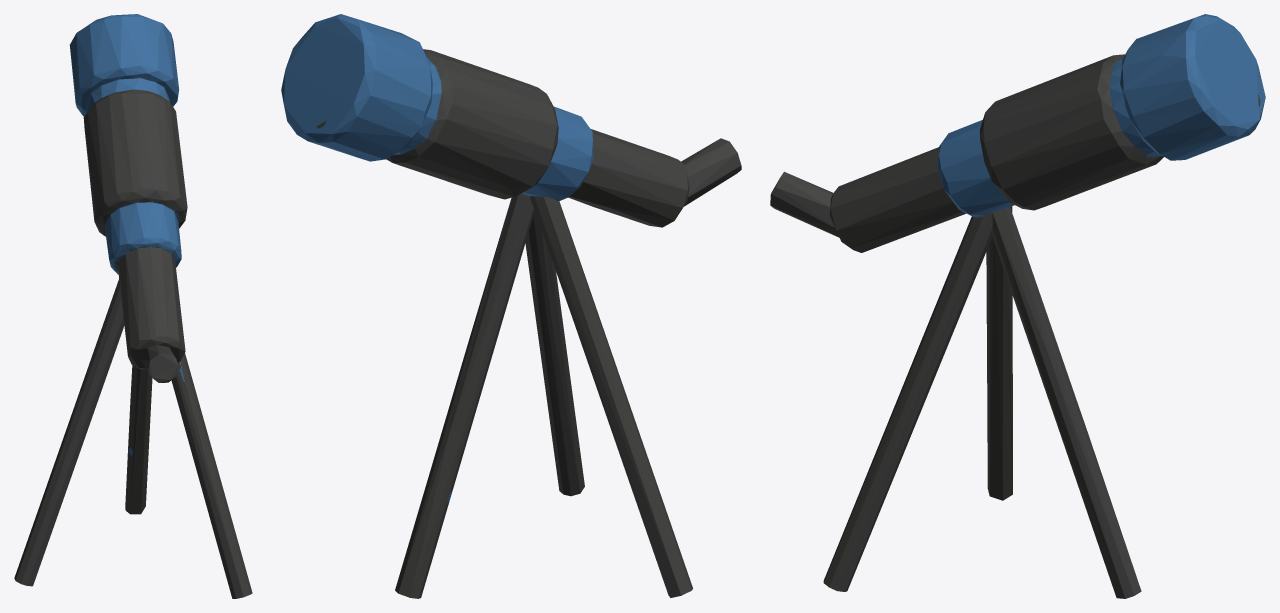
The model's file is teleskop.glb.
The picture shows the model from 3 angles, left to right: view 1: azimuth 30°, elevation 25°; view 2: azimuth 150°, elevation 25°; view 3: azimuth 270°, elevation 25°; orthographic projection. The views are drawn at different scales.
Parts seen in each view (by area): view 1: 265775_23_06_15_13_12_30_0; view 2: 265775_23_06_15_13_12_30_0; view 3: 265775_23_06_15_13_12_30_0.
Boxes of the visible parts, x1,y1,x2,y2 form: 265775_23_06_15_13_12_30_0: (14,14,252,598); 265775_23_06_15_13_12_30_0: (281,14,741,598); 265775_23_06_15_13_12_30_0: (770,14,1265,598).
Bounding box in the file's own units: 1.05 × 2 × 1.53.
1 material, 1 textured.
